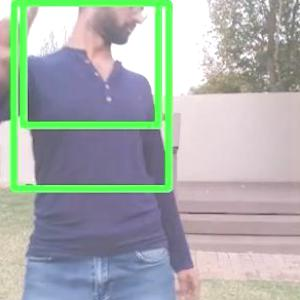takeoff-hand: (0, 0, 49, 89)
